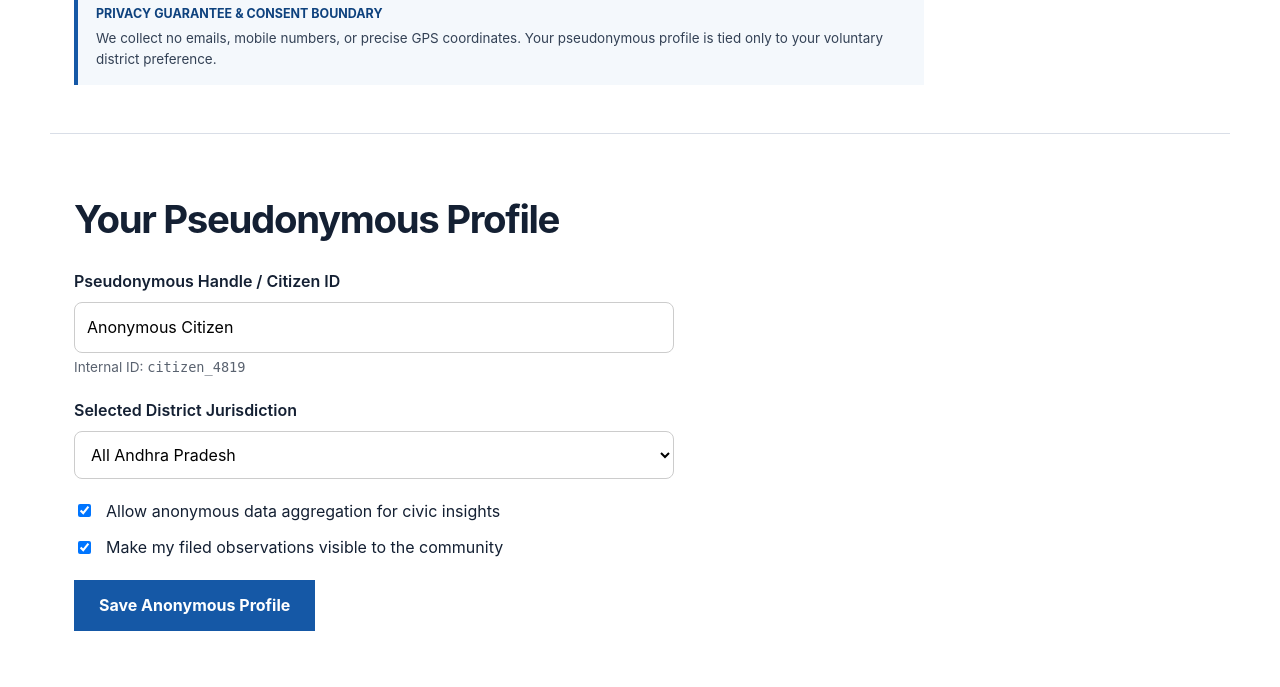
Scenario: AccountContent › allows updating anonymous handle and saving preferences
(page scrolled)
Replace the text in the field labelled "Pseudonymous Handle / Citizen ID" with "Ravindra Citizen". click: coordinates (374, 327)
box: [74,302,674,353]
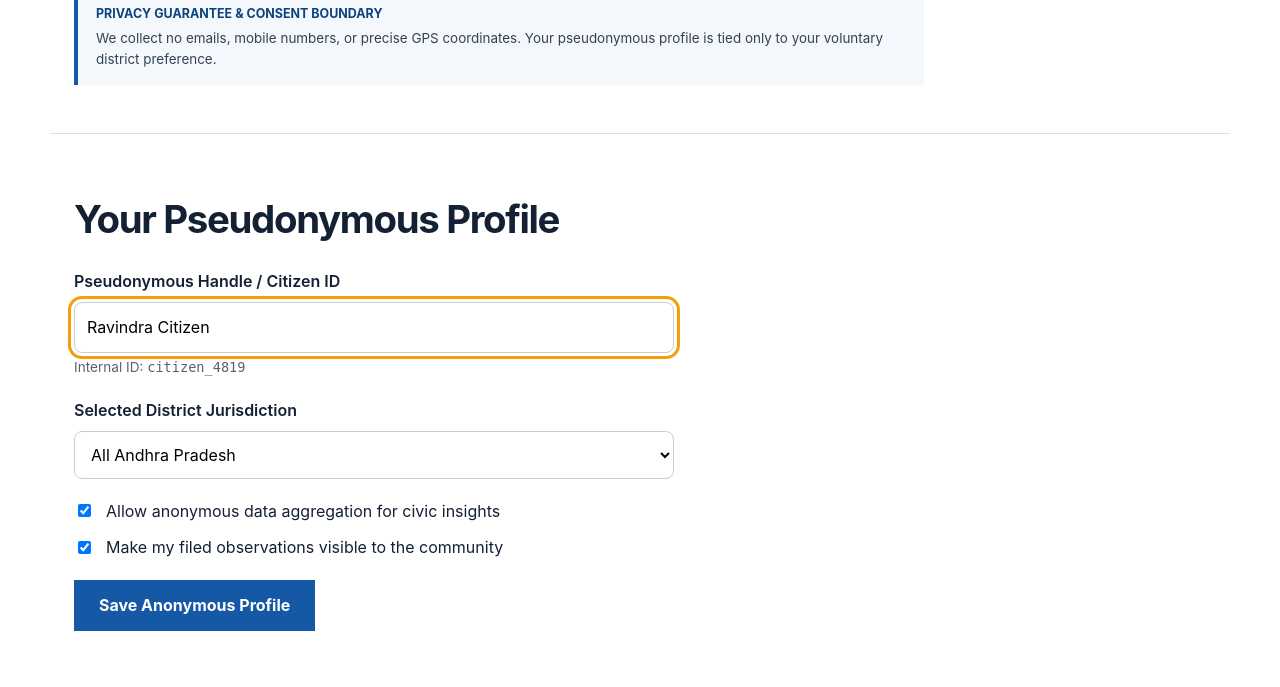
Click the button "Save Anonymous Profile". click: coordinates (195, 606)
box: [74,580,315,631]
(page scrolled)
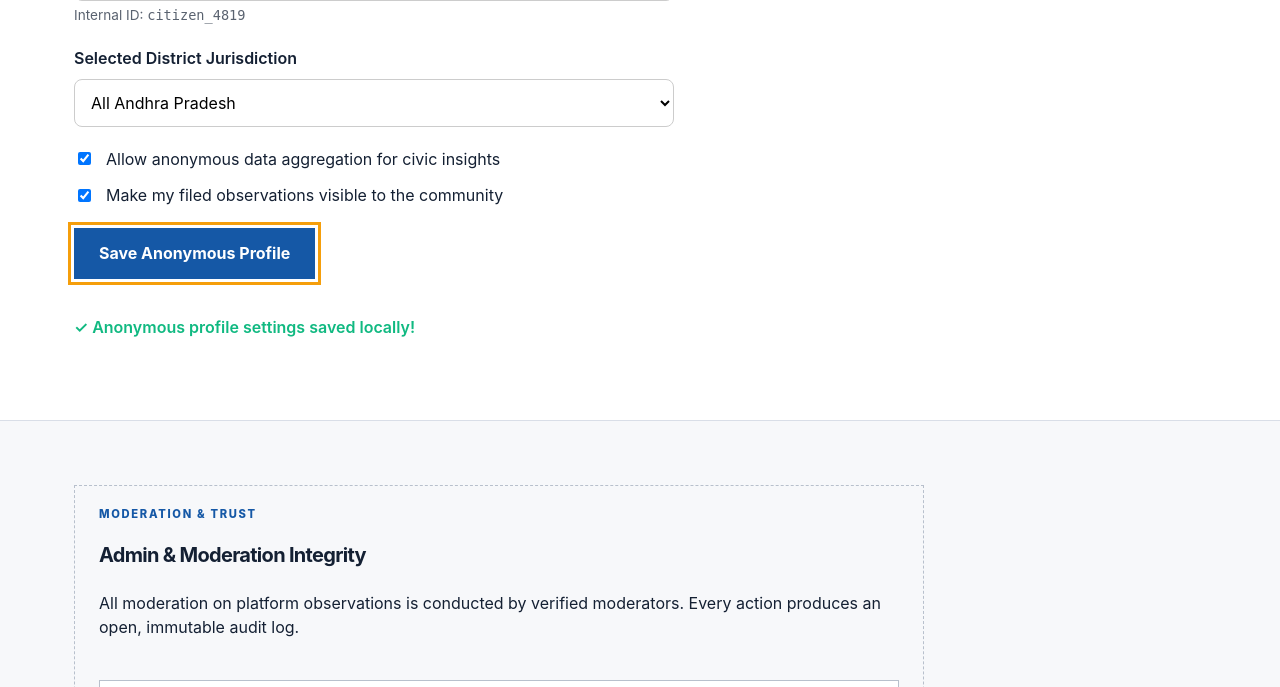
Now the text "✓ Anonymous profile settings saved locally!" is shown, box [74,317,415,337]
